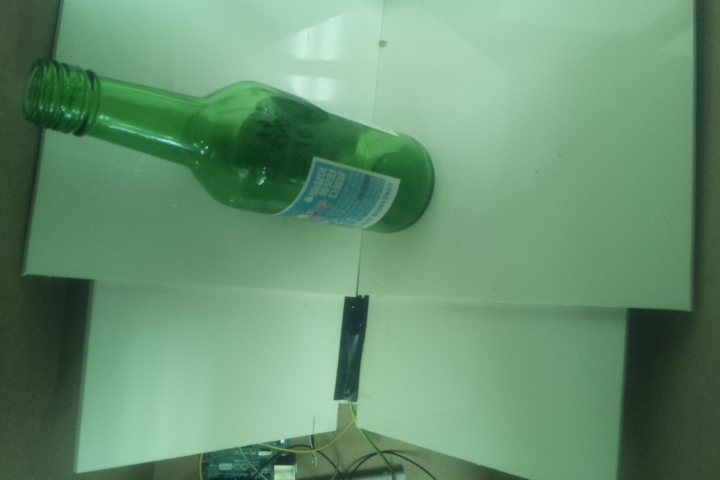soju: (23, 56, 435, 236)
